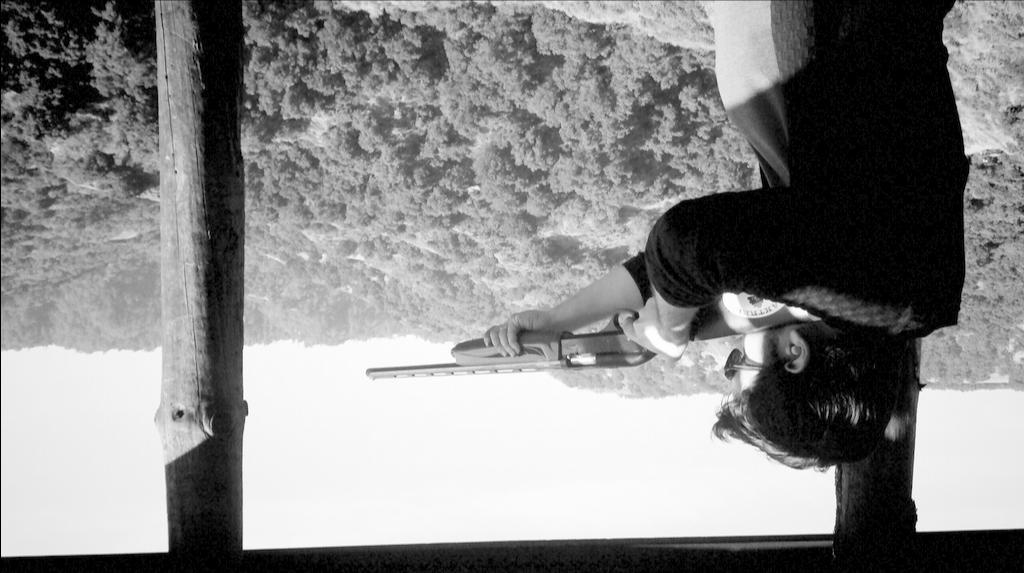gun: (362, 300, 824, 380)
